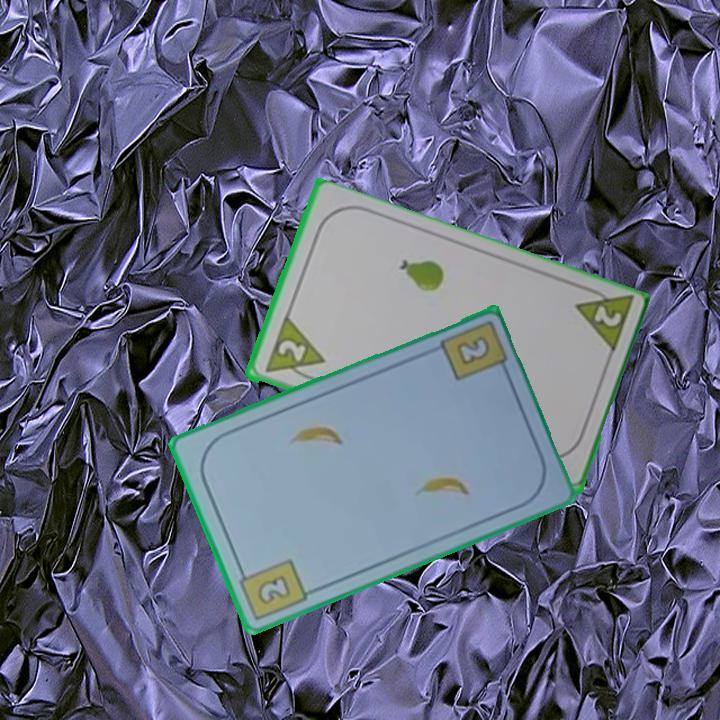2b: (234, 555, 311, 624), (452, 332, 493, 369)
2p: (570, 281, 636, 359), (260, 315, 327, 386)
